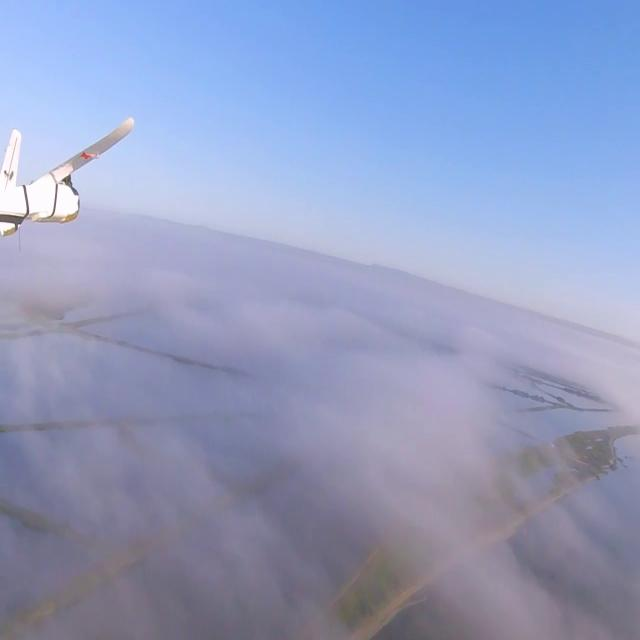iha: (0, 116, 68, 248)
